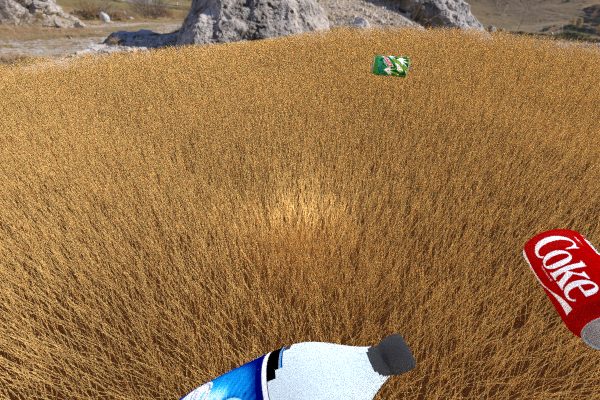Plastic Bottle: (32, 333, 415, 400), (523, 228, 600, 352), (371, 55, 410, 77)
